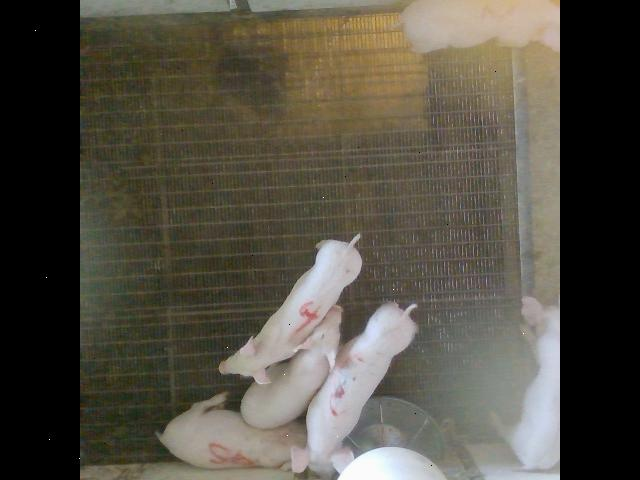pig-1: (500, 296, 559, 469)
pig-2: (401, 0, 558, 51)
pig-3: (291, 301, 417, 479)
pig-4: (219, 232, 362, 382)
pig-5: (156, 391, 307, 468)
